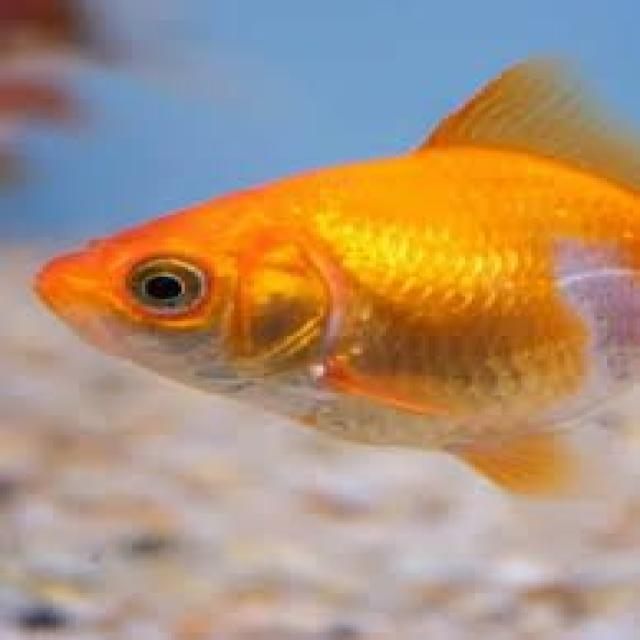Gold-Fish: (0, 51, 640, 532)
